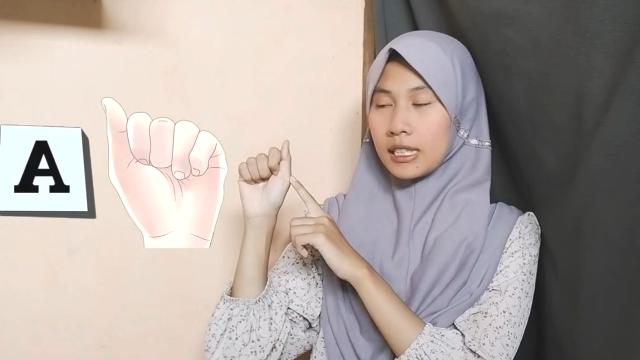A: (236, 140, 292, 226)
